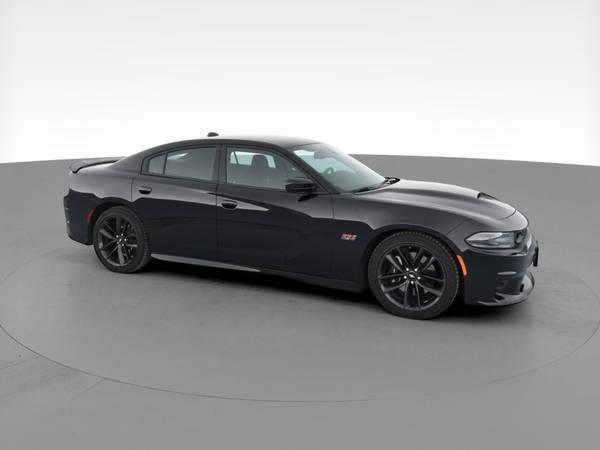Front_Bumper: (459, 227, 540, 306)
Front_Fender: (330, 197, 483, 295)
Front_Right_Door: (220, 186, 339, 289)
Front_Right_Window: (217, 146, 330, 196)
Front_Windshield: (288, 144, 388, 192)
Hood: (341, 179, 529, 233)
Rear_Bumper: (62, 195, 97, 245)
Rear_Fender: (67, 168, 138, 206)
Rear_Right_Door: (130, 175, 219, 268)
Rear_Right_Window: (138, 145, 217, 185)
Right_Headlight: (470, 233, 523, 253)
Roof: (106, 135, 337, 194)
Wheel: (367, 235, 460, 320), (93, 207, 149, 276)
